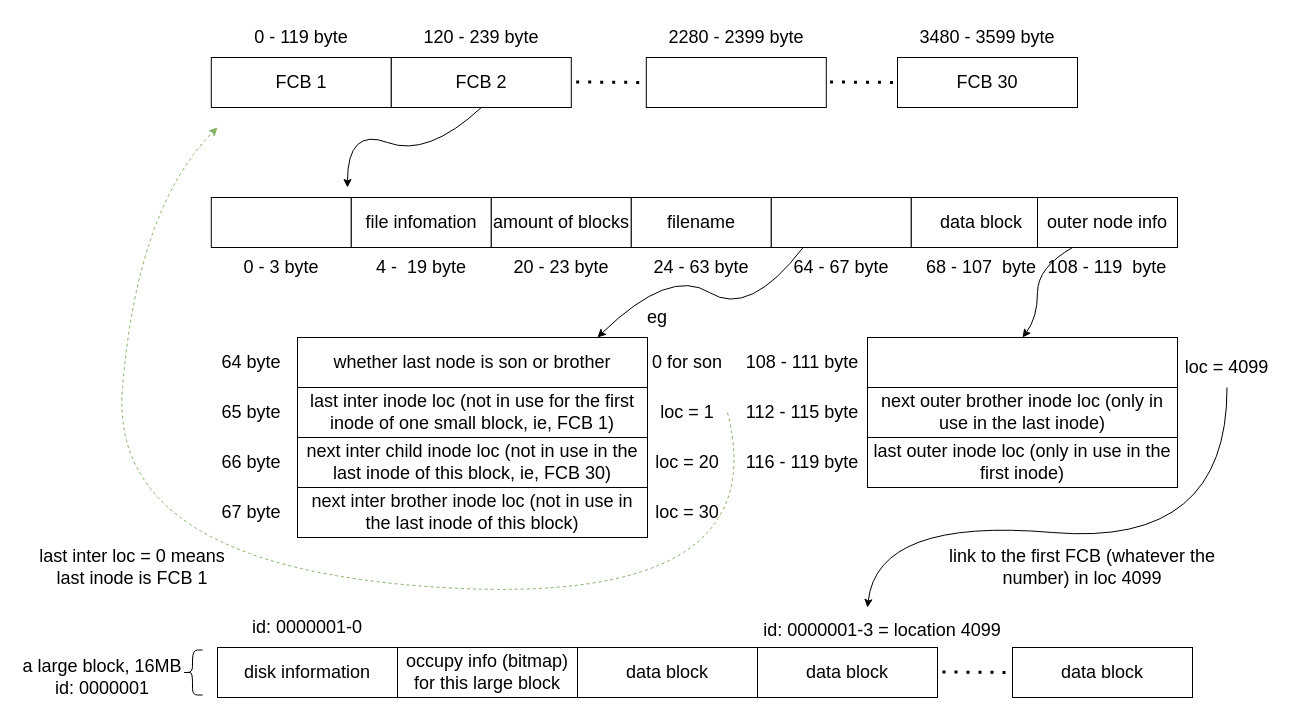
Some shapes in this 1293 by 716 pixel diagram are drawn without their labels. Each missing label, with the centre of its shape:
"ABMS: authority" belongs at pixel 280 222.
"FCB 20" belongs at pixel 735 82.
"inter node info" belongs at pixel 840 222.
"next outer child inode loc (only in use in the last inode, ie, FCB 30)" belongs at pixel 1022 362.
